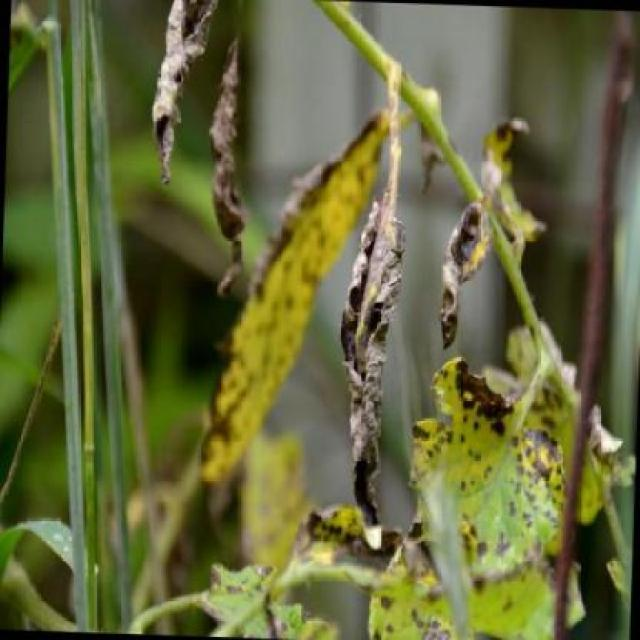Septoria leaf spot: (203, 107, 386, 478), (390, 355, 590, 639)
